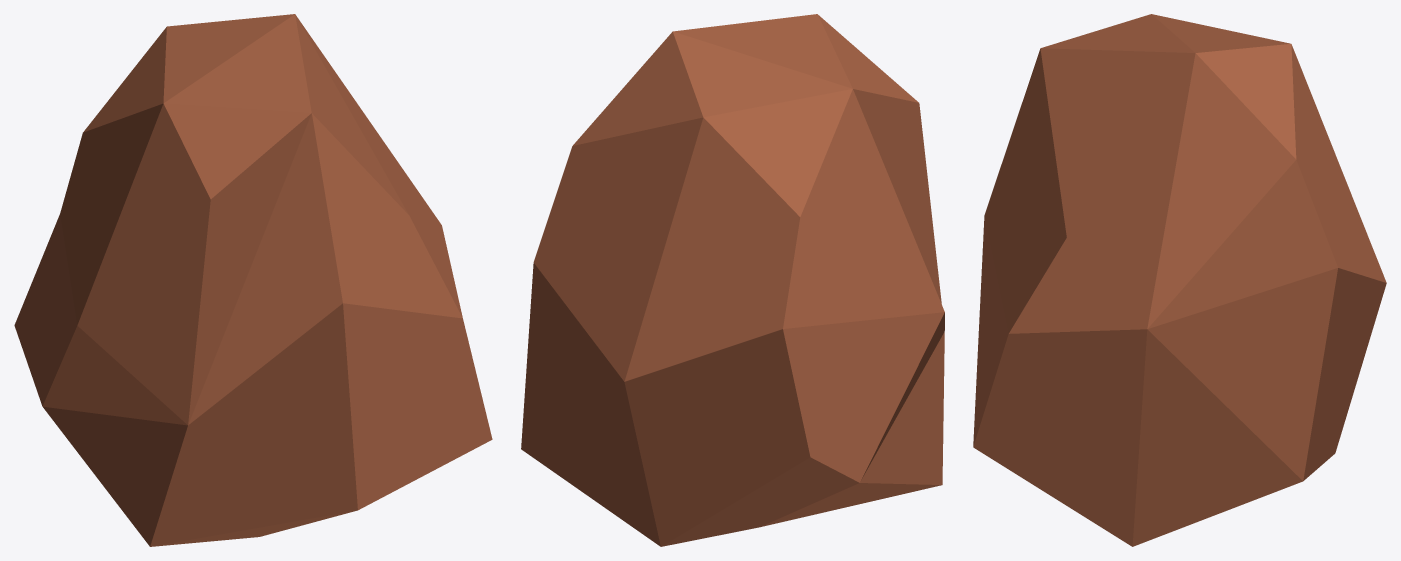
Rendered from small_rock1.glb.
The picture shows the model from 3 angles, left to right: view 1: azimuth 30°, elevation 25°; view 2: azimuth 150°, elevation 25°; view 3: azimuth 270°, elevation 25°; orthographic projection. The views are drawn at different scales.
Visible parts, largest first — view 1: small_rock1; view 2: small_rock1; view 3: small_rock1.
Boxes of the visible parts, x1=… form: small_rock1: x1=14, y1=14, x2=492, y2=546; small_rock1: x1=521, y1=14, x2=944, y2=546; small_rock1: x1=973, y1=14, x2=1386, y2=546.
Size of the model in its own units: 0.9275 by 1.19 by 0.9326.
